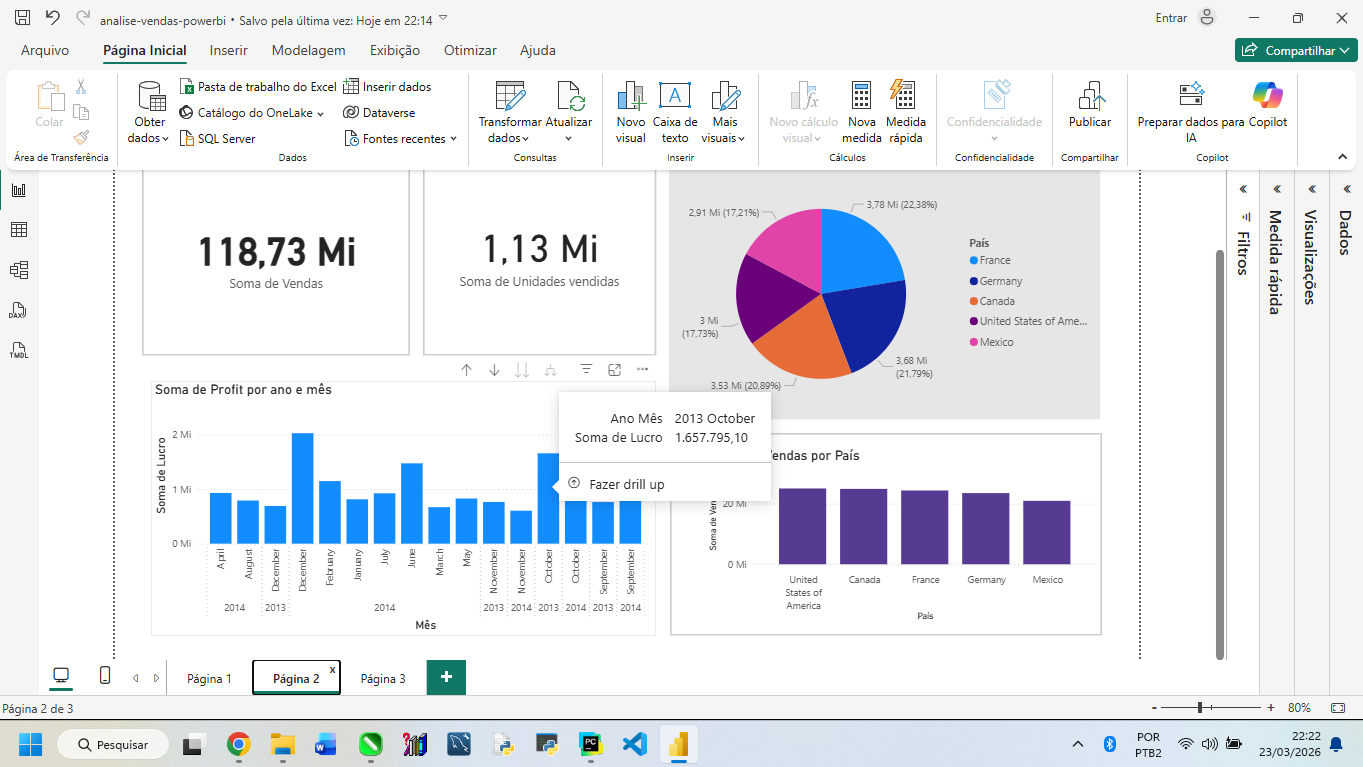

The dashboard page shown, as its layout file describes it:
{"tool":"powerbi","page":{"name":"Página 2","canvas":[1280,720],"ordinal":1},"visuals":[{"type":"card","fields":{"Values":["Sum(Sheet1. Sales)"]},"box":[78.3,108.3,245,210],"z":1000},{"type":"card","fields":{"Values":["Sum(Sheet1.Units Sold)"]},"box":[396.7,105,268.3,211.7],"z":2000},{"type":"pieChart","fields":{"Y":["Sum(Sheet1.Profit)"],"Category":["Sheet1.Country"]},"box":[693.1,86.6,539.3,333.1],"z":3000},{"type":"columnChart","title":"Soma de Profit por ano e mês","fields":{"Category":["Sheet1.Year","Sheet1.Month Name"],"Y":["Sum(Sheet1.Profit)"]},"box":[45,371.7,631.7,318.3],"z":4000},{"type":"clusteredColumnChart","fields":{"Y":["Sum(Sheet1. Sales)"],"Category":["Sheet1.Country"]},"box":[737.9,454.1,494.4,222.6],"z":5000},{"type":"textbox","box":[16.4,6,1244.3,64.2],"z":6000}]}

Visuals, with their boxes on the page's 1280x720 design canvas (x1, y1, x2, y2). These are canvas units, not pixel positions in the 1363x767 screenshot, which may show the page scaled, cropped or inside an application window:
card - Sum(Sheet1. Sales): x1=78 y1=108 x2=323 y2=318
card - Sum(Sheet1.Units Sold): x1=397 y1=105 x2=665 y2=317
pieChart - Sum(Sheet1.Profit) x Sheet1.Country: x1=693 y1=87 x2=1232 y2=420
"Soma de Profit por ano e mês" columnChart: x1=45 y1=372 x2=677 y2=690
clusteredColumnChart - Sum(Sheet1. Sales) x Sheet1.Country: x1=738 y1=454 x2=1232 y2=677
textbox: x1=16 y1=6 x2=1261 y2=70
